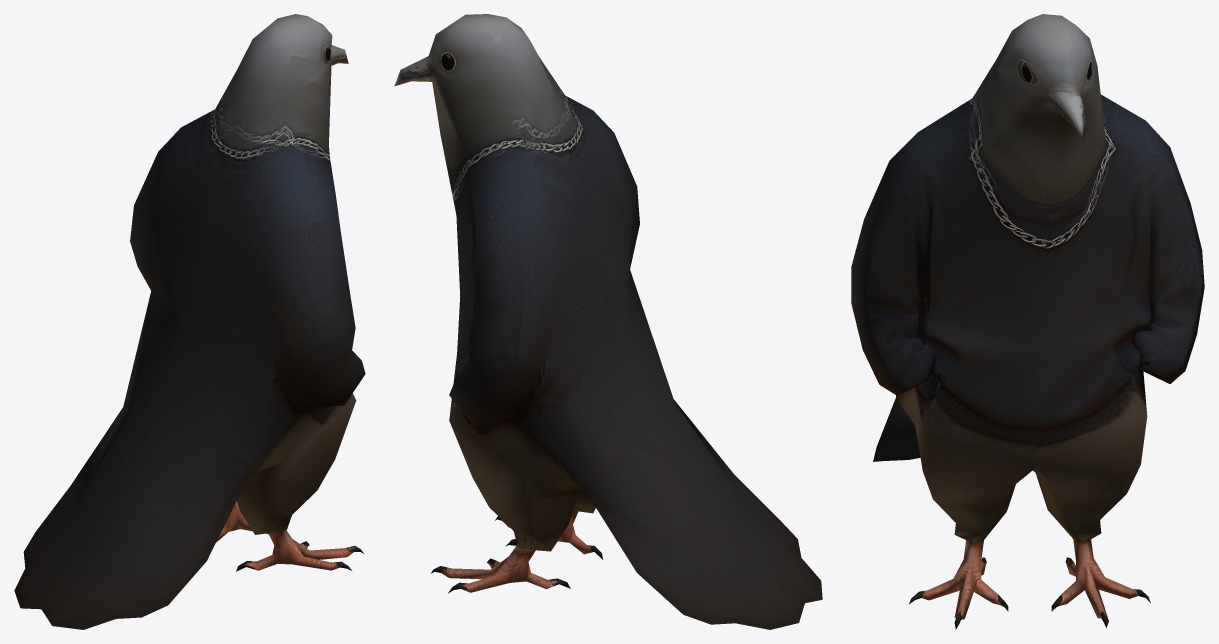
The model's file is pigeon+.fbx.
3 renders of one model, left to right at view 1: azimuth 30°, elevation 25°; view 2: azimuth 150°, elevation 25°; view 3: azimuth 270°, elevation 25°, orthographic. The views are drawn at different scales.
Visible parts, largest first — view 1: meshes[0]; view 2: meshes[0]; view 3: meshes[0].
Boxes of the visible parts, bbox=[...] form: meshes[0]: bbox=[14, 14, 365, 629]; meshes[0]: bbox=[394, 14, 822, 629]; meshes[0]: bbox=[851, 14, 1204, 629].
Bounding box in the file's own units: 0.7246 × 0.998 × 0.541.
Materials: 1 (1 with a texture image).
